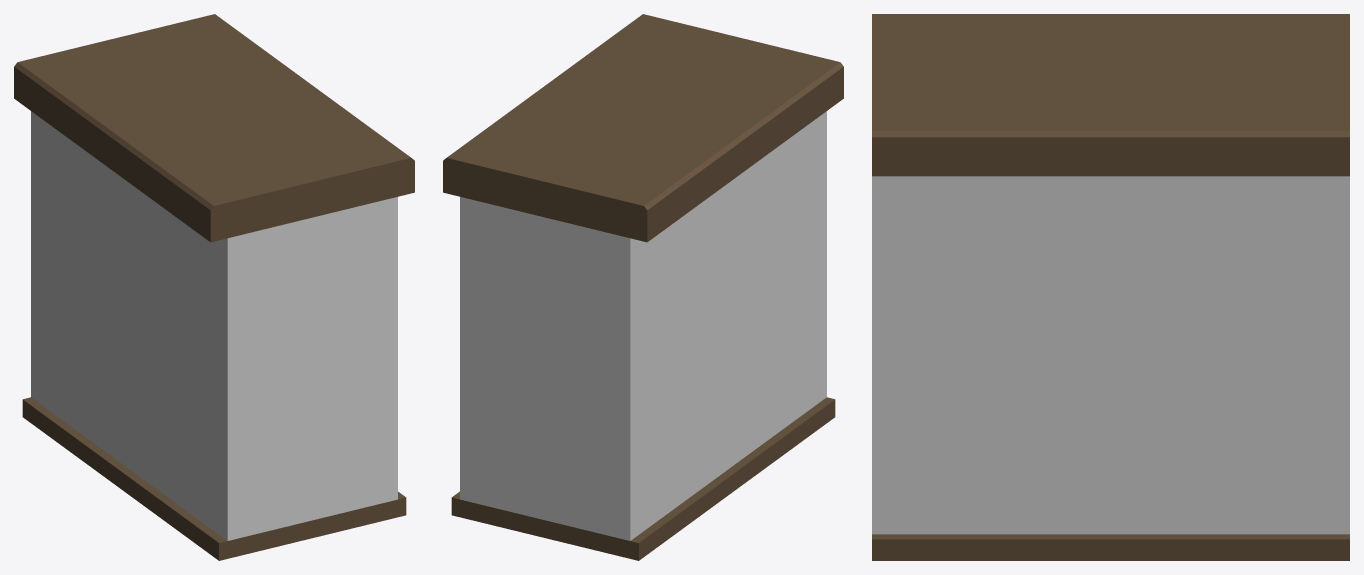
Rendered from SM_Counter_01.glb.
3 renders of one model, left to right at view 1: azimuth 30°, elevation 25°; view 2: azimuth 150°, elevation 25°; view 3: azimuth 270°, elevation 25°, orthographic. The views are drawn at different scales.
Visible parts, largest first — view 1: SM_Counter_01; view 2: SM_Counter_01; view 3: SM_Counter_01.
Part boxes in pixels (left/top/right/bottom): SM_Counter_01: left=14, top=14, right=414, bottom=560; SM_Counter_01: left=443, top=14, right=843, bottom=560; SM_Counter_01: left=872, top=14, right=1349, bottom=560.
Bounding box in the file's own units: 0.6 × 1 × 1.
1 material, 1 textured.
